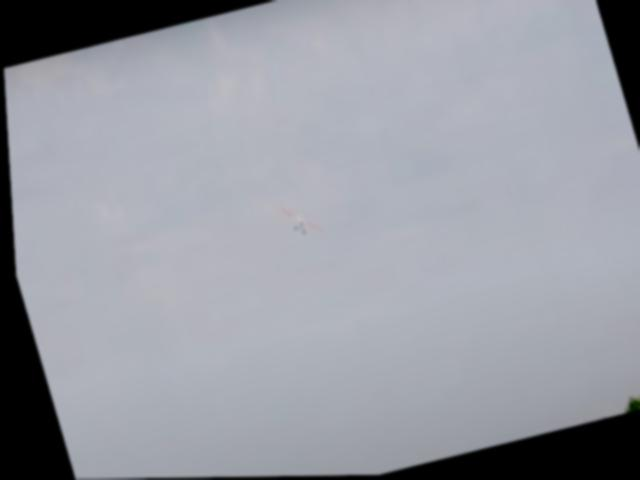uav: (263, 185, 331, 261)
